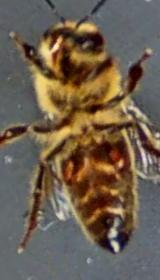varroa_mite: (94, 136, 144, 176), (52, 150, 84, 190)
